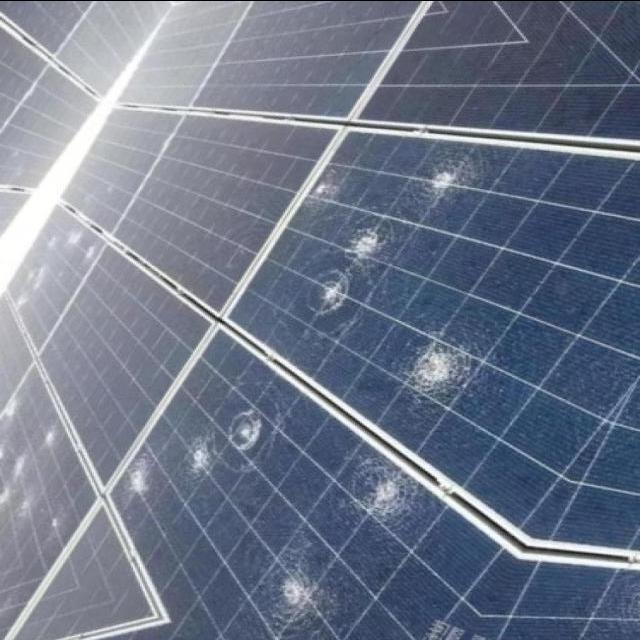cracked: (225, 132, 638, 489), (128, 332, 496, 636)
